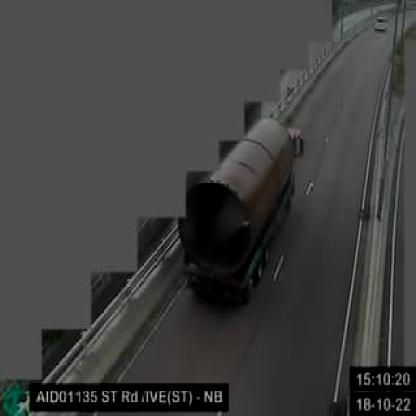Car: (372, 15, 388, 34)
Truck: (186, 112, 300, 309)
